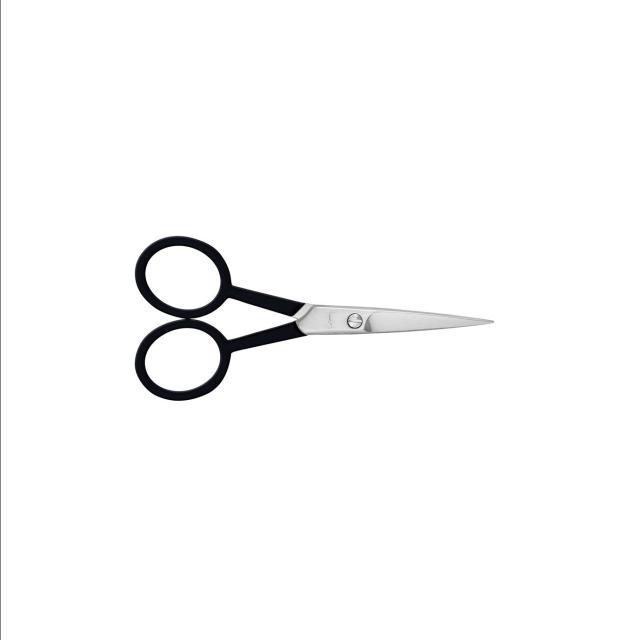scissor: (122, 226, 496, 405)
